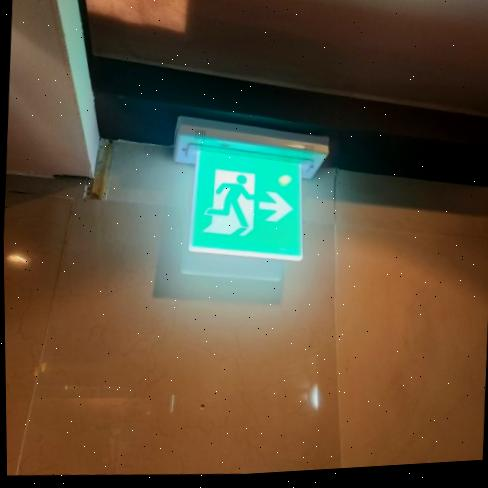emergency_exit: (187, 145, 304, 262)
